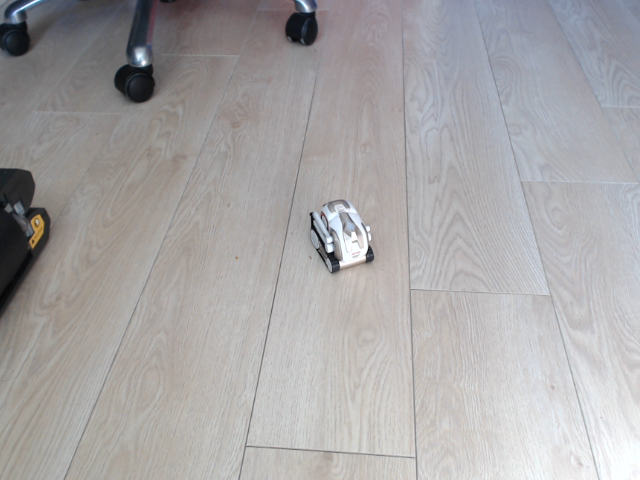cozmo: (305, 197, 378, 279)
